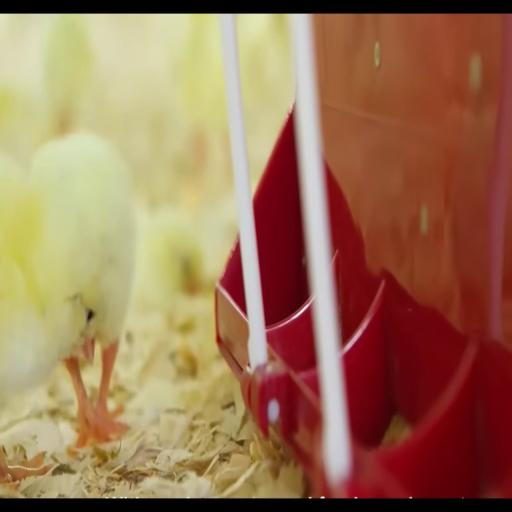chick: (30, 134, 136, 447), (0, 152, 80, 405)
